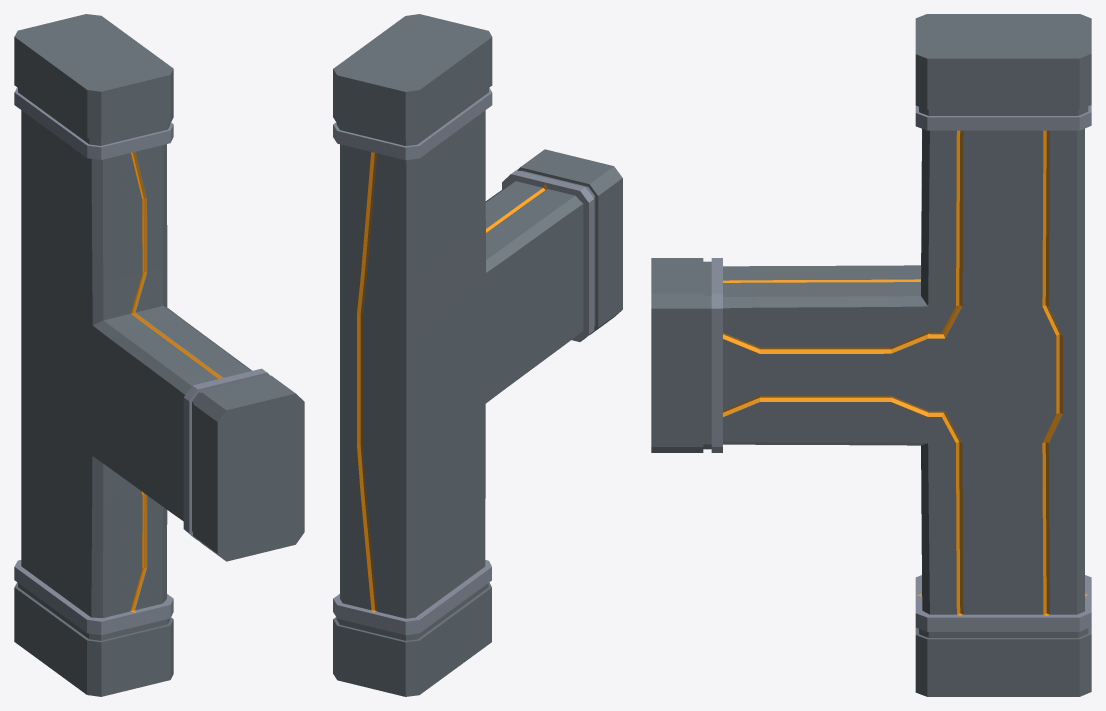
The model's file is SM_T-shaped_wall_ventilation.glb.
3 views of the same model, side by side, from view 1: azimuth 30°, elevation 25°; view 2: azimuth 150°, elevation 25°; view 3: azimuth 270°, elevation 25° (orthographic). The views are drawn at different scales.
Visible parts, largest first — view 1: SM_T-shaped_wall_ventilation; view 2: SM_T-shaped_wall_ventilation; view 3: SM_T-shaped_wall_ventilation.
Boxes of the visible parts, <box> form: SM_T-shaped_wall_ventilation: <box>14,14,304,696</box>; SM_T-shaped_wall_ventilation: <box>333,14,622,696</box>; SM_T-shaped_wall_ventilation: <box>651,14,1091,696</box>.
Size of the model in its own units: 0.3 by 2 by 1.25.
1 material, 1 textured.
